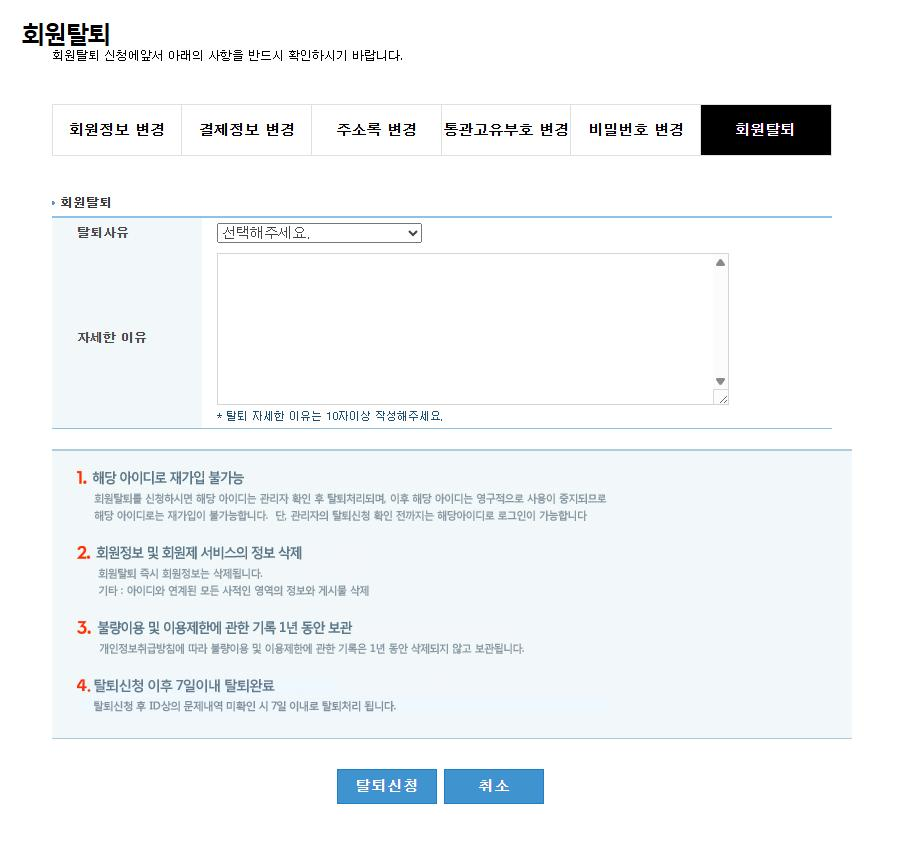button: (703, 103, 831, 157), (53, 101, 180, 154), (186, 101, 310, 154), (444, 103, 567, 154), (318, 104, 442, 154), (570, 105, 699, 153), (443, 770, 543, 806), (336, 766, 435, 802)
checkbox: (213, 218, 425, 245)
input_field: (216, 253, 728, 404)
